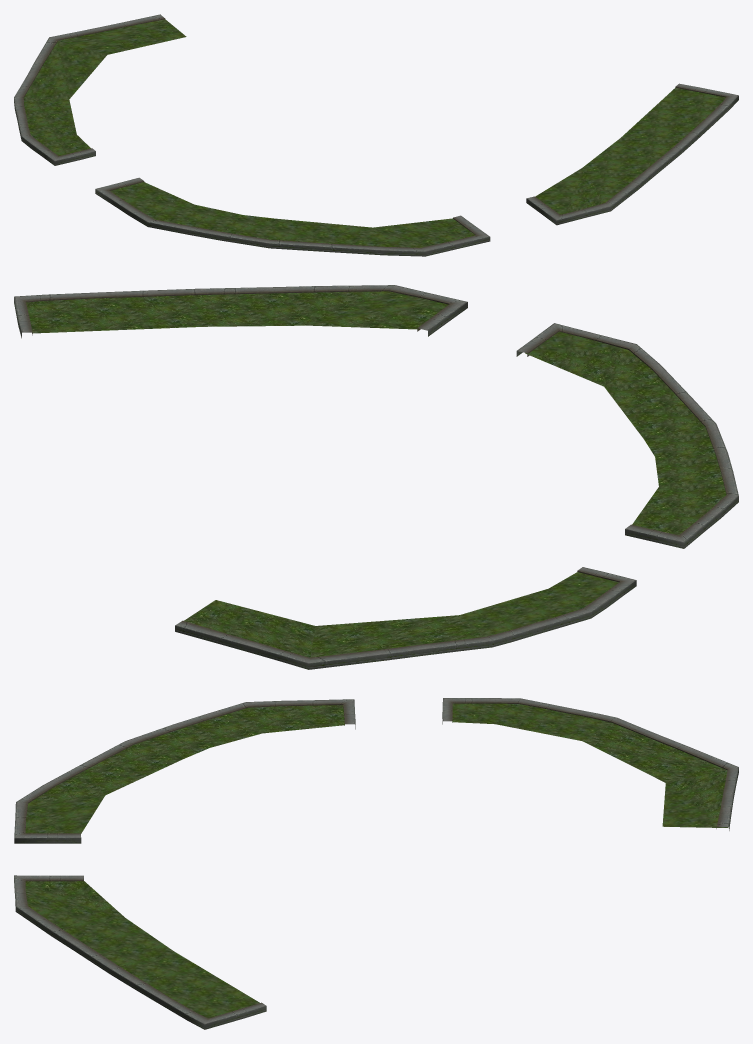
File: zc_suzhou_huatan04.FBX
3 views of the same model, one above another, from view 1: azimuth 30°, elevation 25°; view 2: azimuth 150°, elevation 25°; view 3: azimuth 270°, elevation 25° (orthographic). The views are drawn at different scales.
Visible parts, largest first — view 1: zc_suzhou_huatan04; view 2: zc_suzhou_huatan04; view 3: zc_suzhou_huatan04.
Boxes of the visible parts, x1,y1,x2,y2 form: zc_suzhou_huatan04: [14, 14, 738, 256]; zc_suzhou_huatan04: [14, 285, 738, 669]; zc_suzhou_huatan04: [14, 698, 738, 1029].
Bounding box in the file's own units: 7911 × 61.94 × 7425.
Materials: 2 (2 with a texture image).
